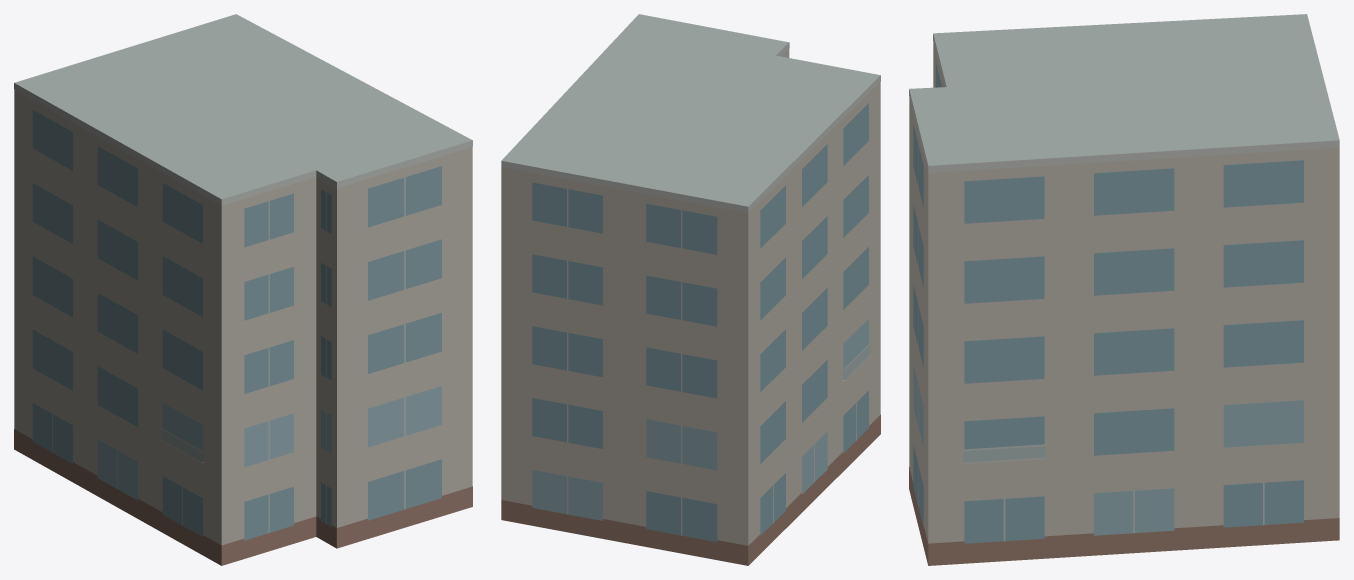
File: survey-upis-32890992.glb
3 renders of one model, left to right at view 1: azimuth 30°, elevation 25°; view 2: azimuth 150°, elevation 25°; view 3: azimuth 270°, elevation 25°, orthographic. The views are drawn at different scales.
Parts seen in each view (by area): view 1: survey-upis-32890992.tmp; view 2: survey-upis-32890992.tmp; view 3: survey-upis-32890992.tmp.
Boxes of the visible parts, left/top/right/bottom form: survey-upis-32890992.tmp: left=14, top=14, right=472, bottom=565; survey-upis-32890992.tmp: left=501, top=14, right=880, bottom=565; survey-upis-32890992.tmp: left=909, top=14, right=1339, bottom=565.
Bounding box in the file's own units: 11.17 × 13.7 × 13.38.
